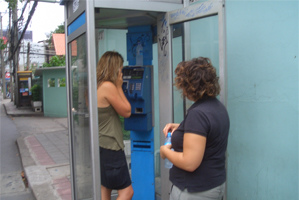person: (97, 50, 136, 200)
